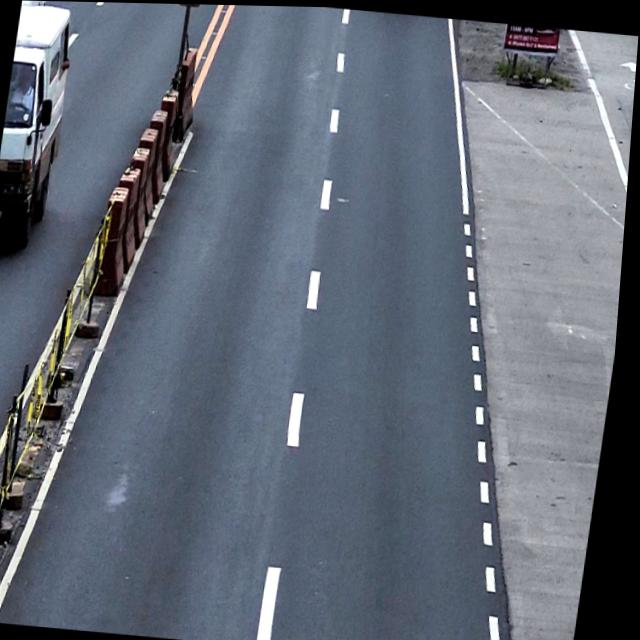Car: (0, 0, 79, 251)
